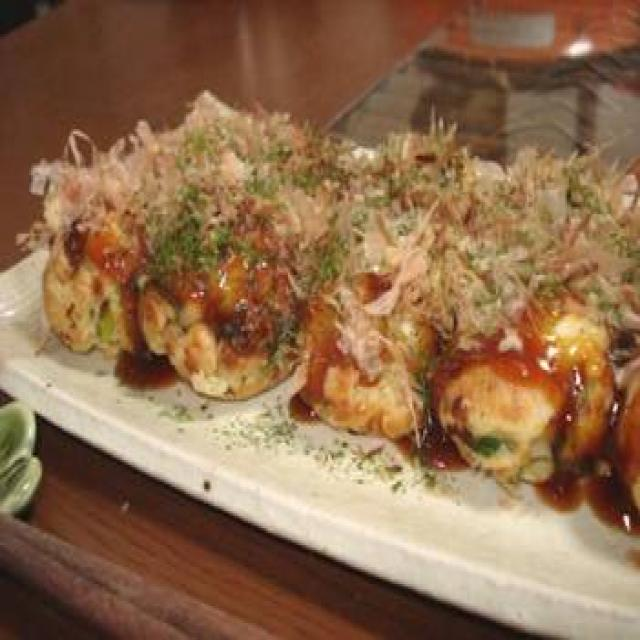炸货点心: (38, 88, 640, 538)
